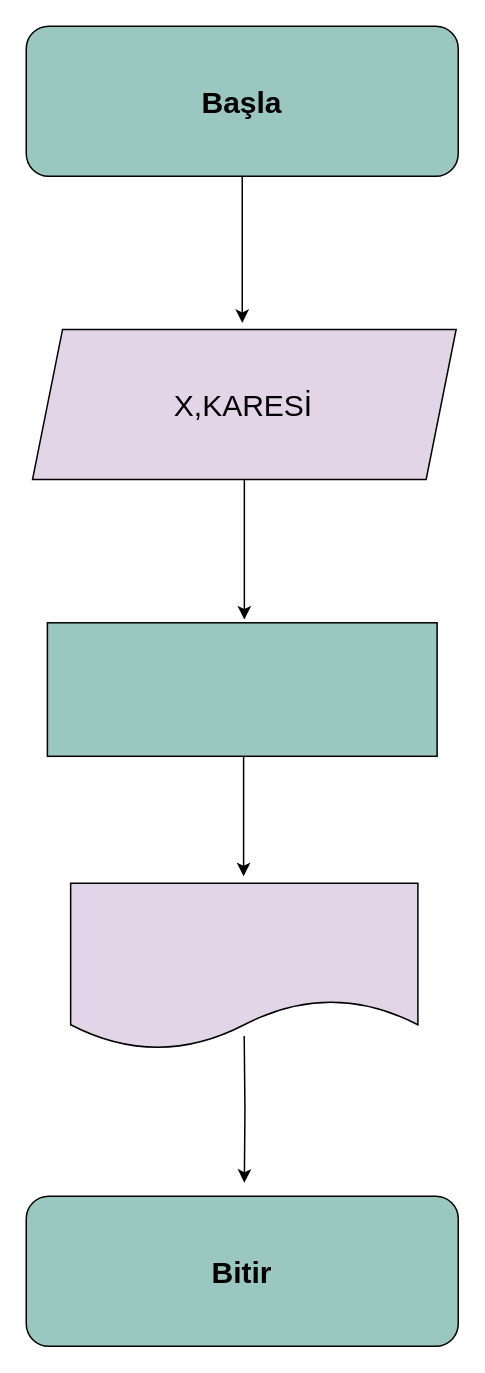
This 485x1373 diagram has some shape labels left out. Each missing label, with the box of its shape:
KARESİ: (69, 882, 418, 1050)
KARESİ=X*X: (46, 621, 437, 756)
